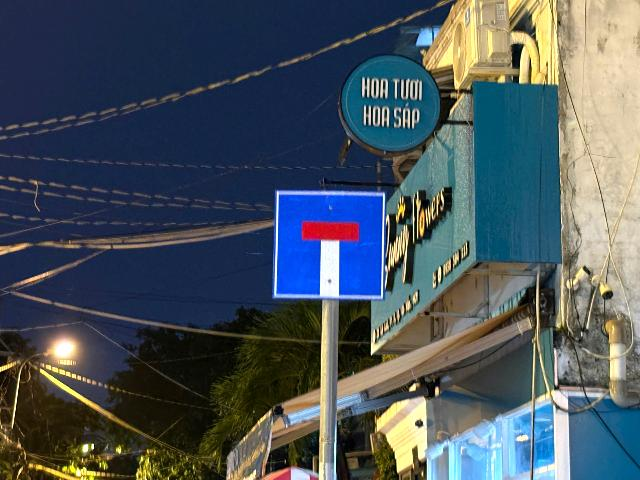duong-cut: (272, 190, 383, 299)
